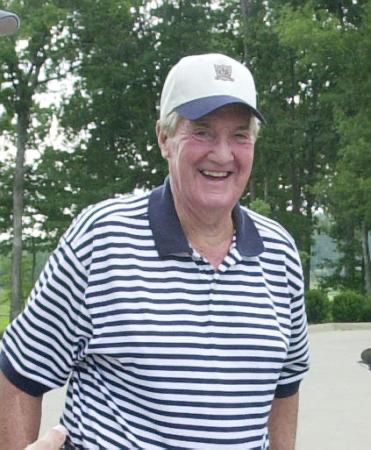Face: (168, 91, 262, 223)
